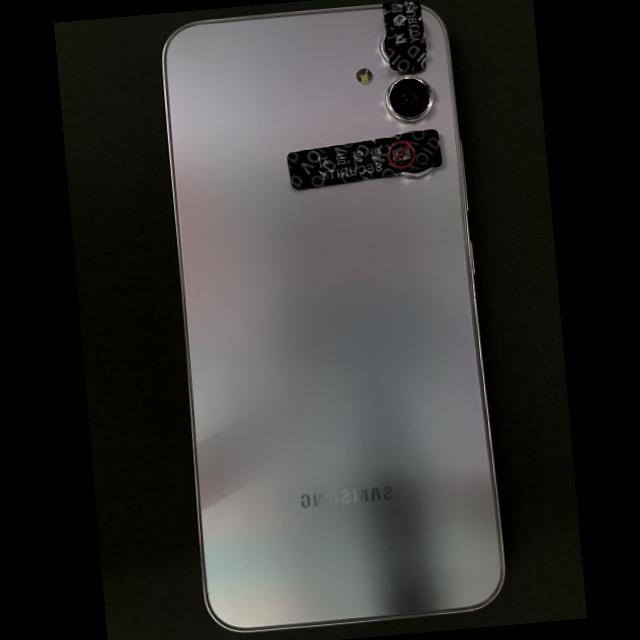lens: (386, 77, 432, 120), (400, 167, 431, 178), (380, 34, 388, 61)
phone: (161, 1, 506, 632)
sticker: (286, 128, 442, 190), (381, 1, 424, 70)
